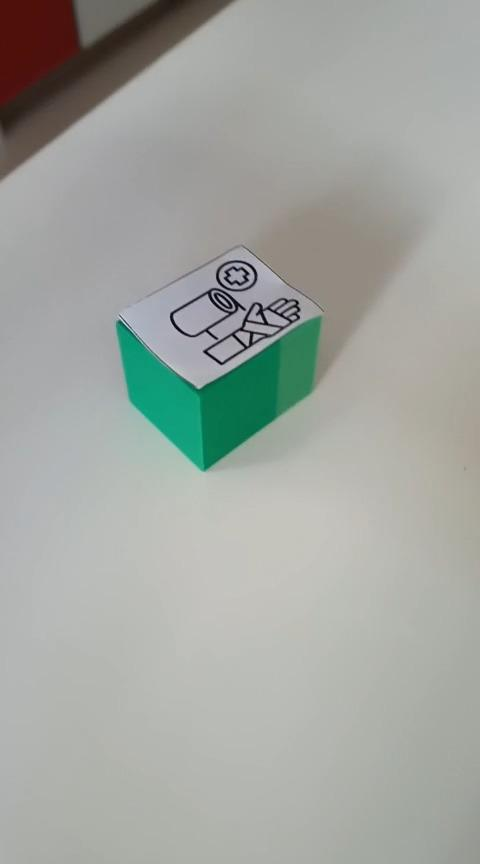Bandages: (114, 242, 324, 471)
